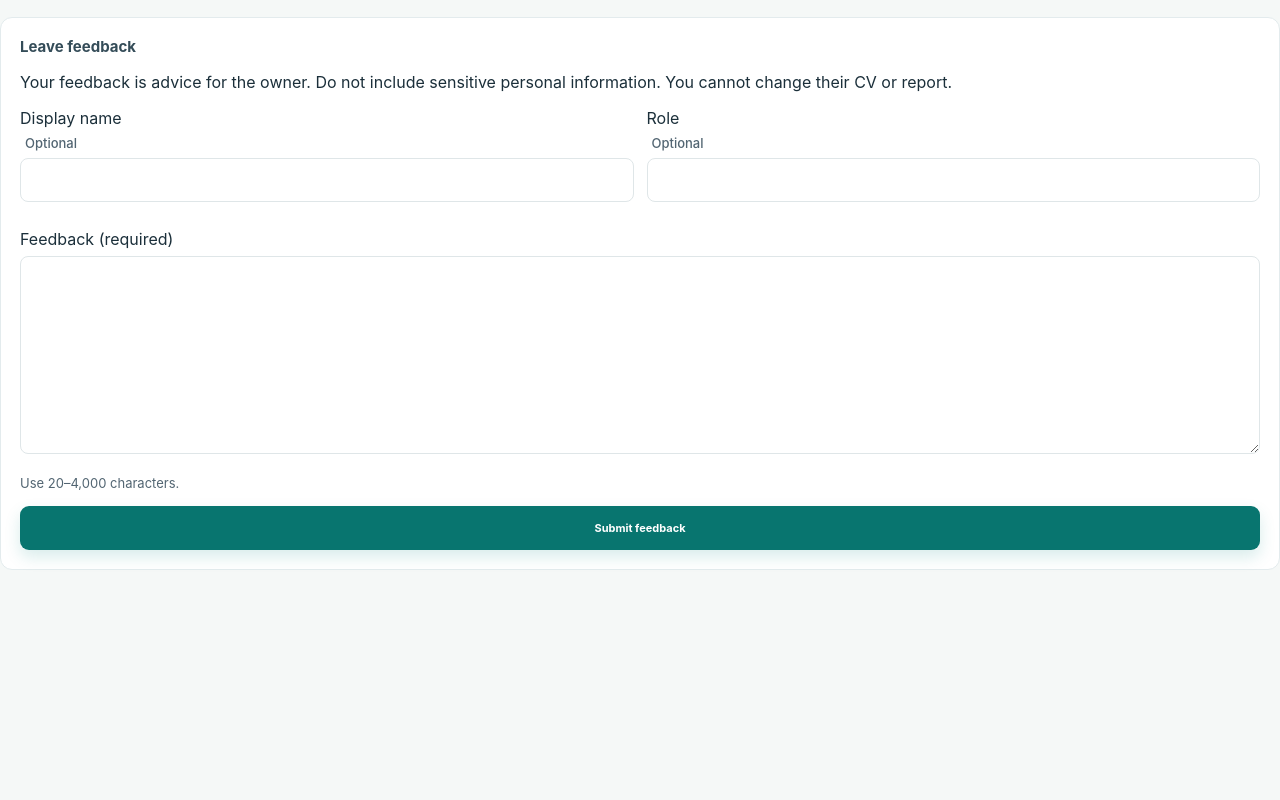
Scenario: private reviewer feedback › allows corrections after a definite validation rejection and assigns a new payload ID
Type "This is a useful example to expand on." into the text box labelled "Feedback (required)" at (640, 355), box [20,256,1260,454]
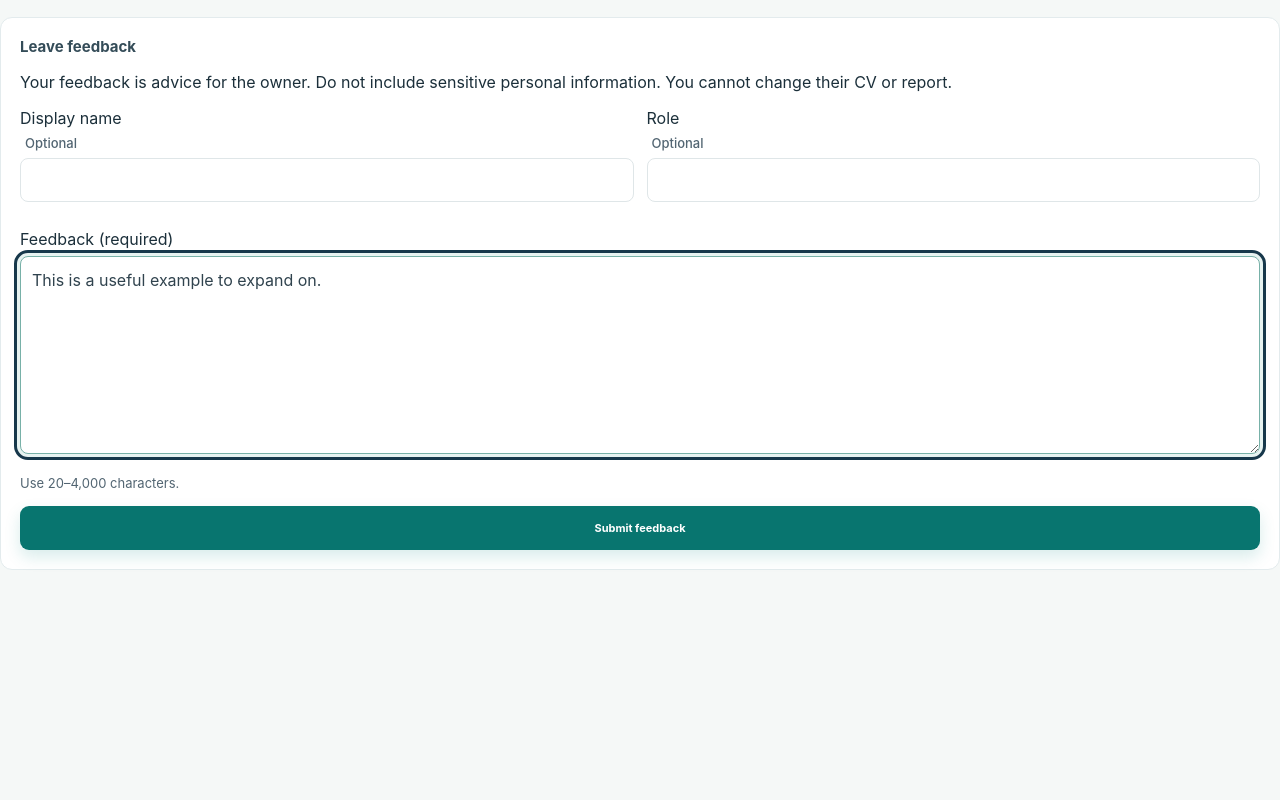
Click the button "Submit feedback" at (640, 528), box [20,506,1260,550]
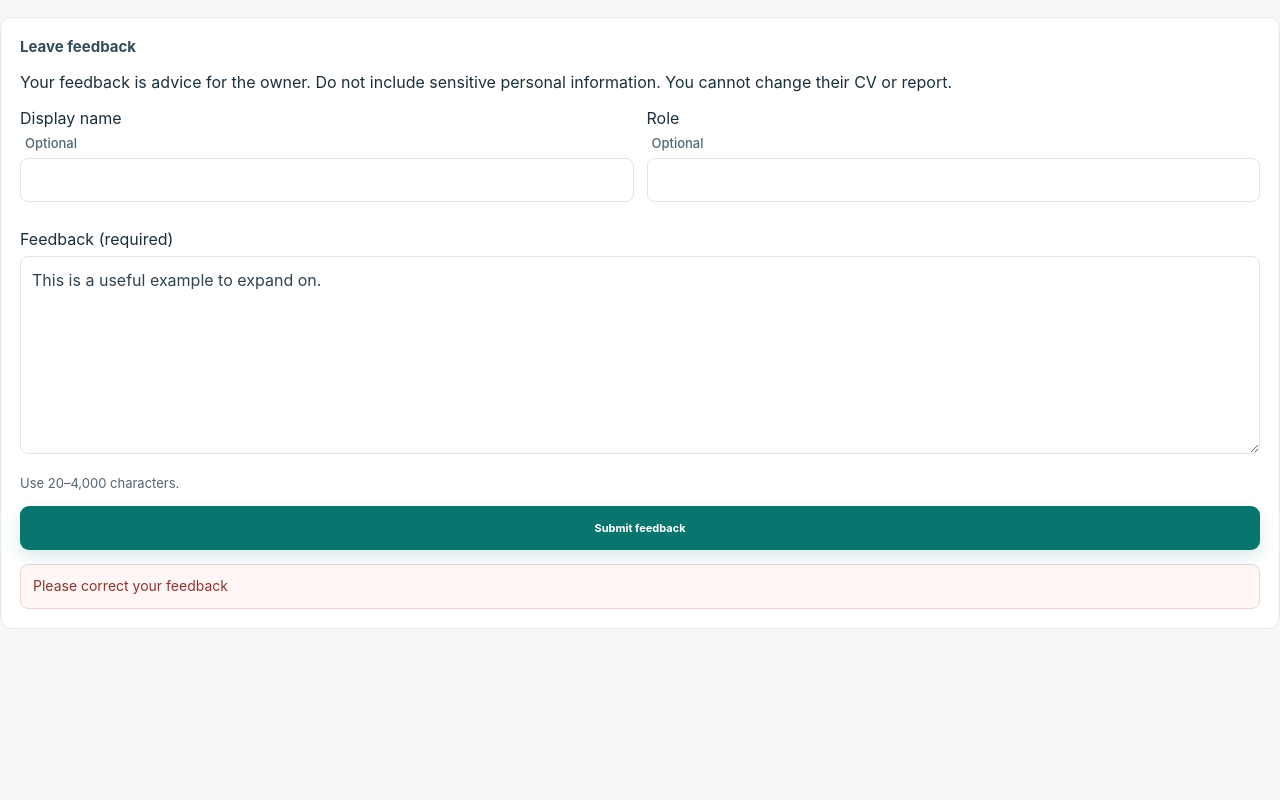
Now the message "Please correct your feedback" is shown, box [20,564,1260,609]
Replace the text in the text box labelled "Feedback (required)" with "This is corrected feedback for the owner." at (640, 355), box [20,256,1260,454]
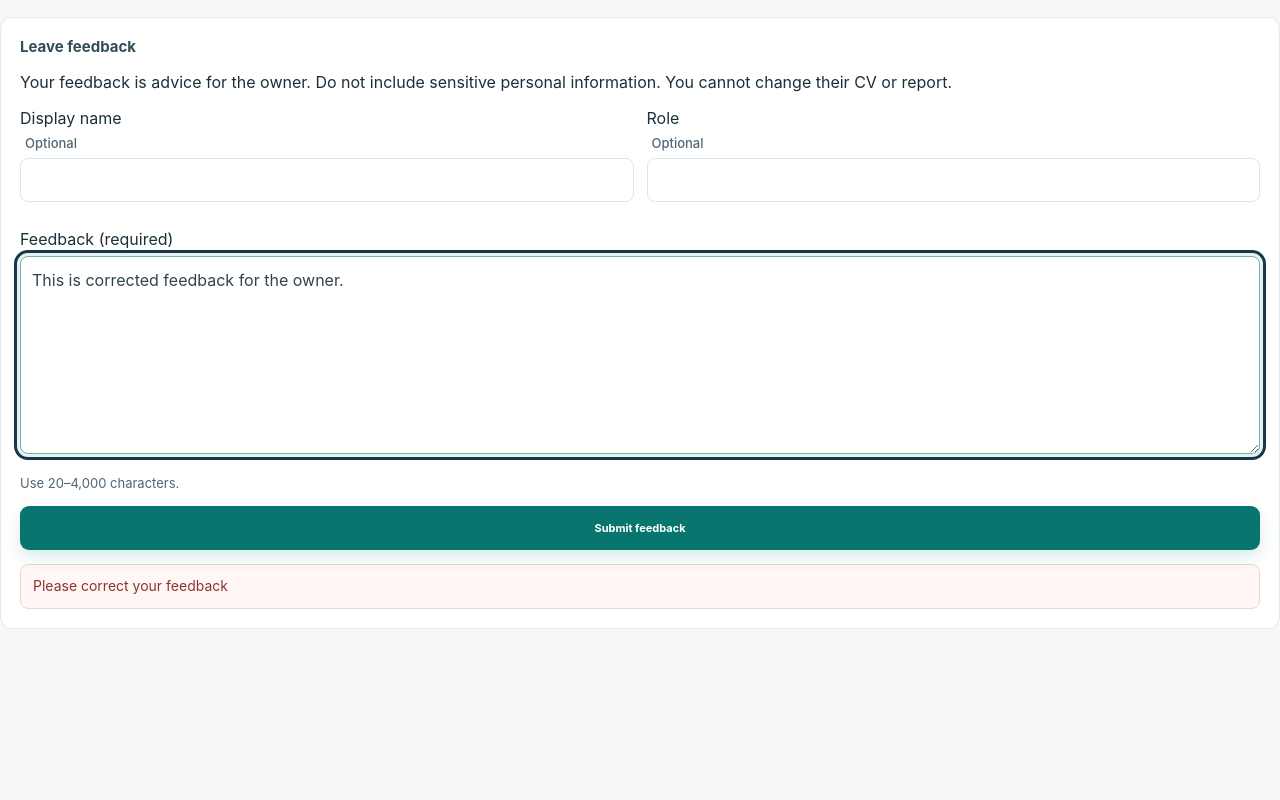
Click the button "Submit feedback" at (640, 528), box [20,506,1260,550]
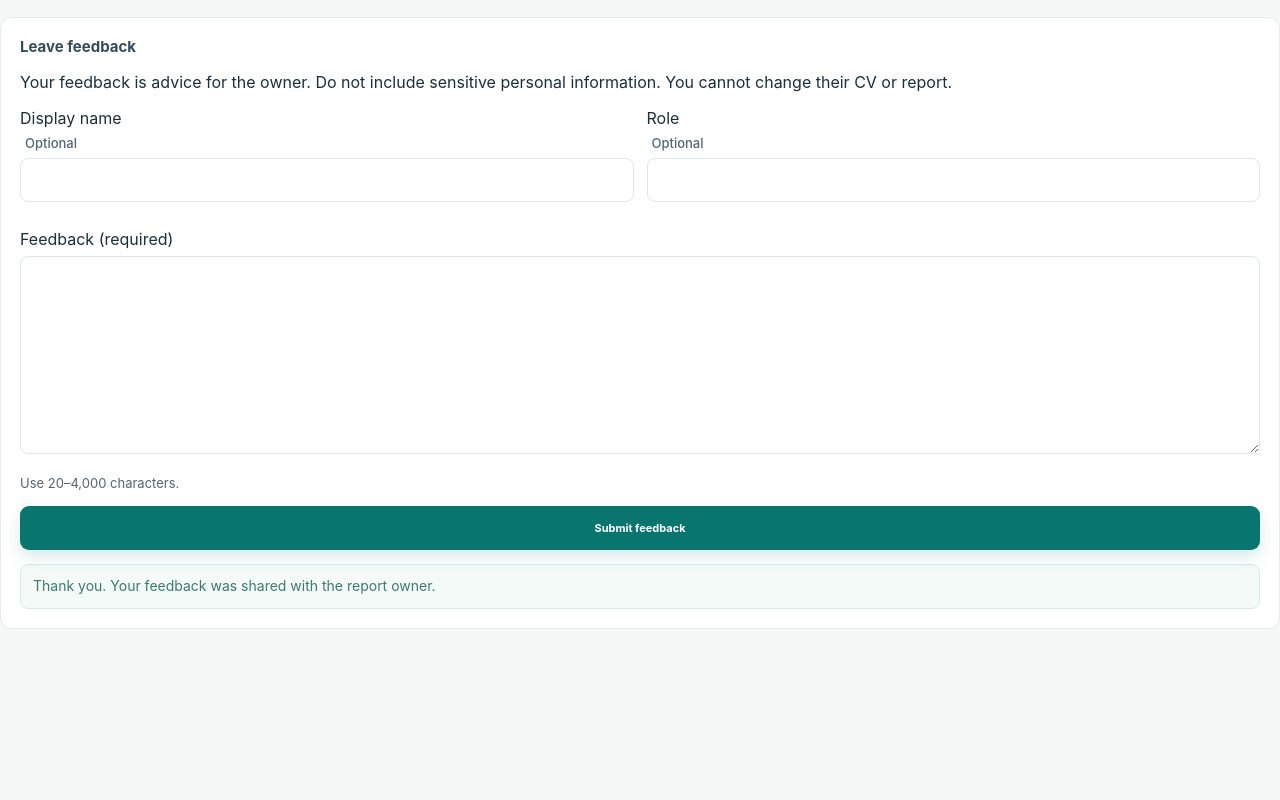
Now the text "Thank you. Your feedback was shared with the report owner." is shown, box [20,564,1260,609]
